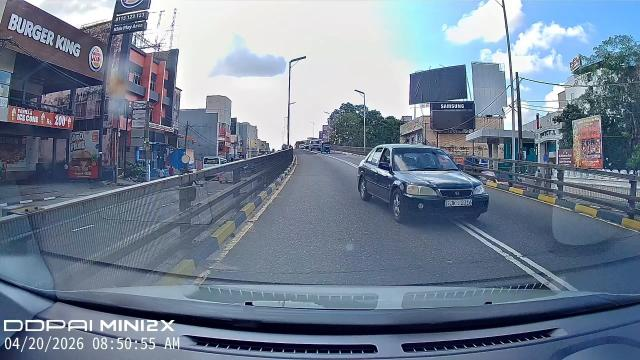illegal overtaking: (353, 144, 503, 234)
number plate: (441, 192, 477, 211)
